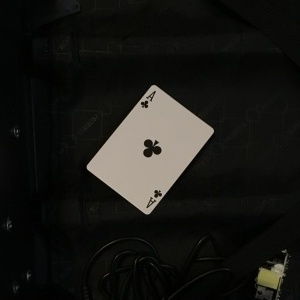card: (86, 82, 214, 218)
